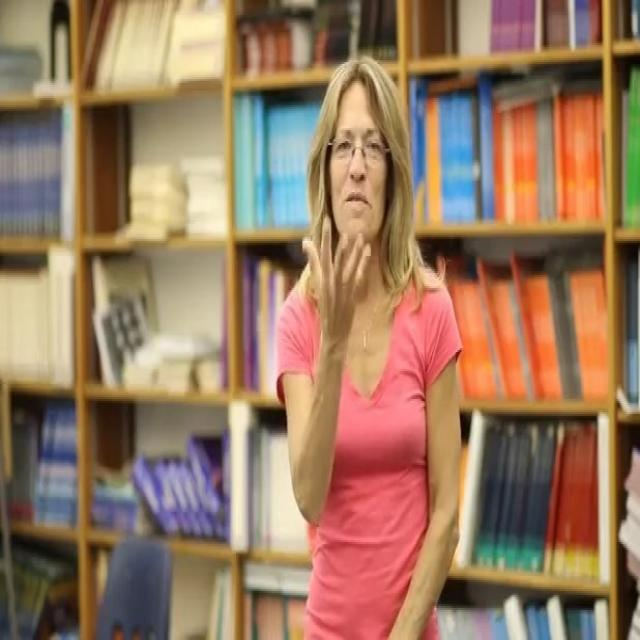warm: (300, 208, 375, 344)
